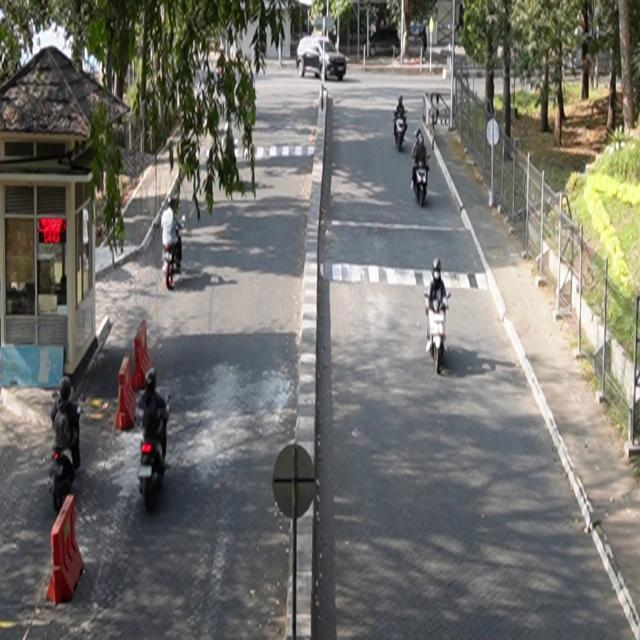car: (297, 37, 348, 82)
